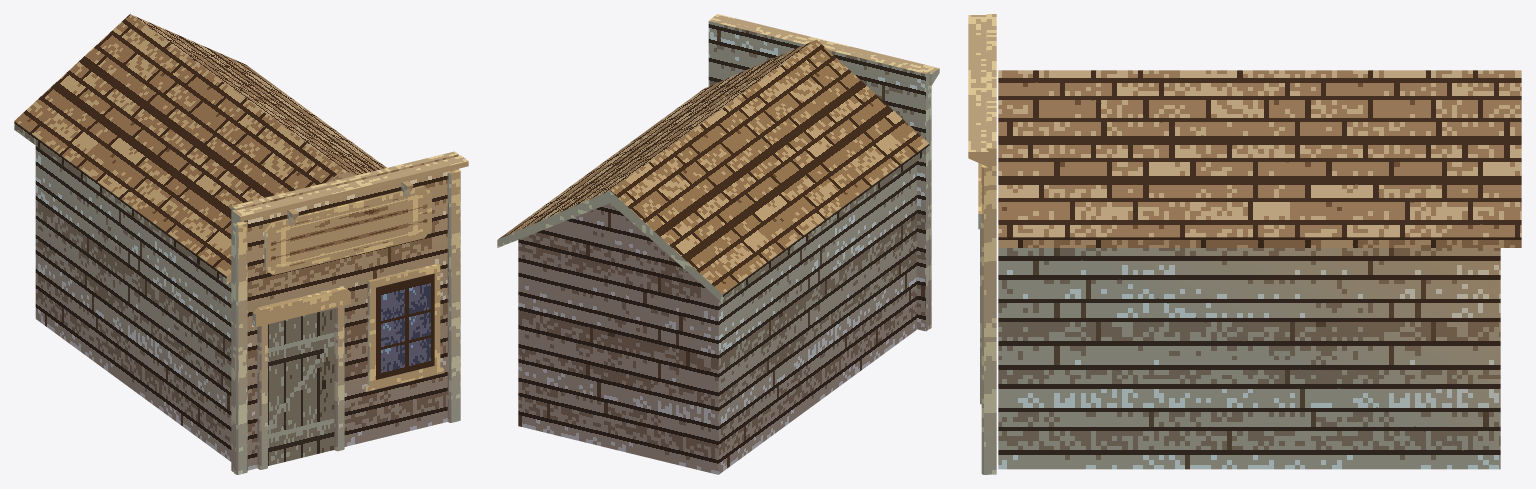
Rendered from wtown.facade.glb.
The picture shows the model from 3 angles, left to right: view 1: azimuth 30°, elevation 25°; view 2: azimuth 150°, elevation 25°; view 3: azimuth 270°, elevation 25°; orthographic projection. The views are drawn at different scales.
Visible parts, largest first — view 1: kit_roof, kit_body, kit_front, kit_card_panes, kit_trim, kit_windows; view 2: kit_body, kit_roof, kit_front, kit_trim; view 3: kit_body, kit_roof, kit_trim, kit_front.
Part boxes in pixels (x1,y1,x2,y2): kit_roof: [14, 14, 386, 284]; kit_body: [35, 146, 351, 461]; kit_front: [231, 151, 458, 472]; kit_card_panes: [268, 191, 434, 465]; kit_trim: [232, 155, 468, 474]; kit_windows: [364, 263, 443, 391]; kit_body: [518, 161, 916, 474]; kit_roof: [497, 39, 929, 302]; kit_front: [708, 18, 929, 331]; kit_trim: [710, 14, 939, 328]; kit_body: [998, 248, 1500, 469]; kit_roof: [998, 70, 1521, 247]; kit_trim: [968, 15, 988, 474]; kit_front: [986, 14, 996, 474].
Bounding box in the file's own units: 3.94 × 4.44 × 6.61.
6 materials, 6 textured.
